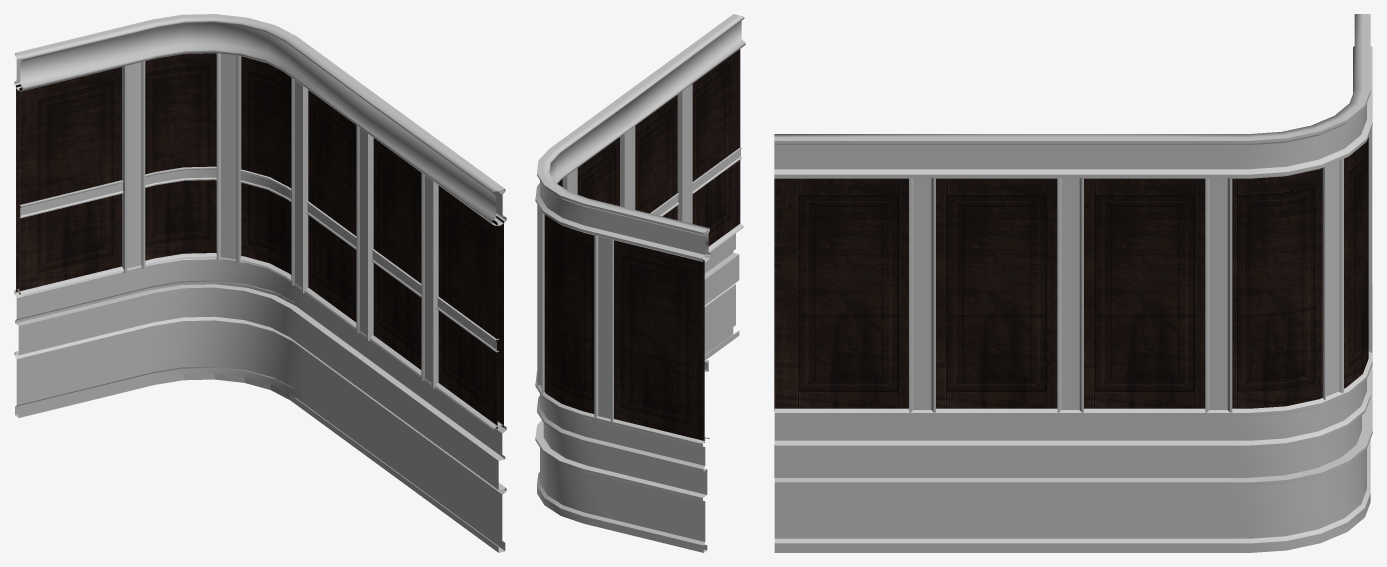
File: engineroom_balcony_office_corner_01_nowin.dae
3 renders of one model, left to right at view 1: azimuth 30°, elevation 25°; view 2: azimuth 150°, elevation 25°; view 3: azimuth 270°, elevation 25°, orthographic. The views are drawn at different scales.
Visible parts, largest first — view 1: polySurface28, polySurface1, balcony_corner_bricks001; view 2: polySurface28, polySurface1, balcony_corner_bricks001; view 3: polySurface28, polySurface1, balcony_corner_bricks001.
Part boxes in pixels (x1,y1,x2,y2): polySurface28: [14, 14, 506, 552]; polySurface1: [16, 53, 503, 428]; balcony_corner_bricks001: [18, 287, 498, 489]; polySurface28: [535, 14, 745, 552]; polySurface1: [544, 49, 740, 442]; balcony_corner_bricks001: [543, 255, 739, 494]; polySurface28: [774, 14, 1372, 552]; polySurface1: [774, 137, 1368, 410]; balcony_corner_bricks001: [774, 415, 1361, 477].
Bounding box in the file's own units: 4.08 × 6.14 × 8.08.
